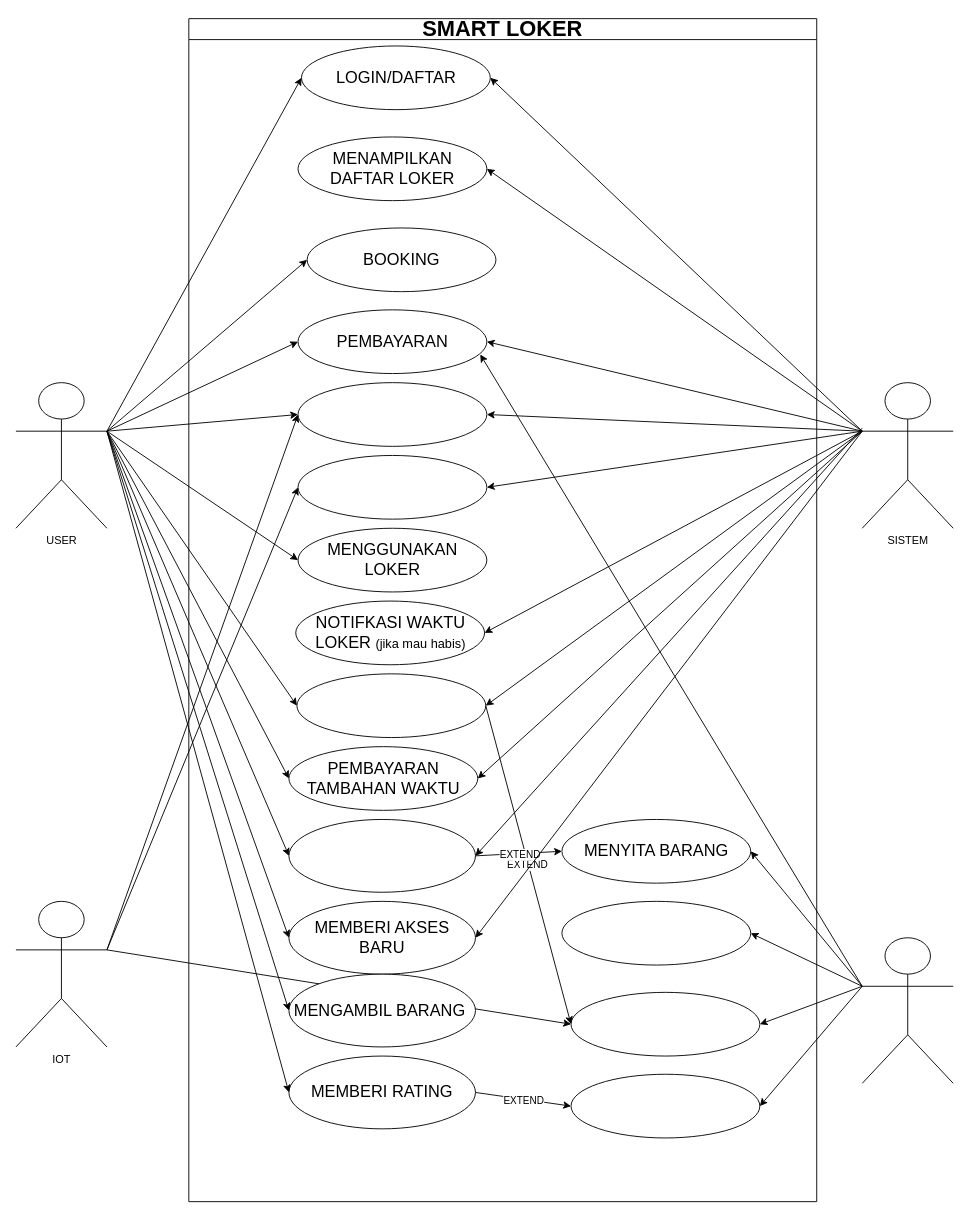
The diagram is 969 pixels wide and 1218 high, and some of its shapes have lost their labels. The centre of each missing label's shape, as x and y in pixels:
ADMIN: (907,1010)
AKSES LOKER: (392,414)
HANDLE LAPORAN: (665,1105)
MANAGE STATUS LOKER: (665,1023)
MELIHAT DATA TRANSAKSI: (656,932)
MEMPERPANJANG WAKTU SEWA: (391,705)
MONITORING STATUS LOKER DAN LOG TRANSAKSI: (392,487)
PEMBAYARAN DENDA: (381,855)
